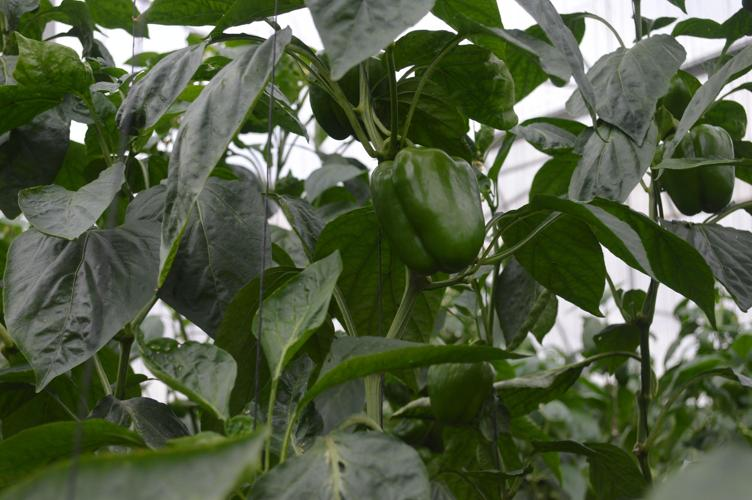BellPepper: (368, 145, 511, 280), (648, 125, 741, 225), (424, 346, 500, 439)
